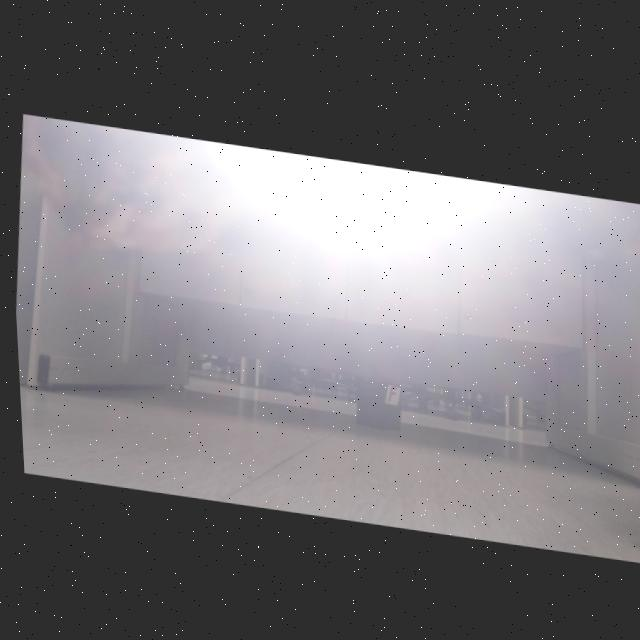F: (383, 382, 393, 397)
